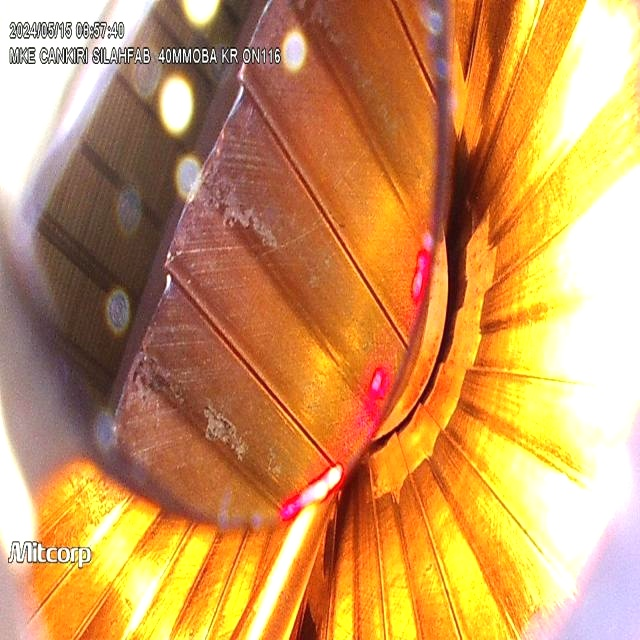hata_3.1: (188, 143, 304, 315), (303, 0, 410, 158)
hata_5.2: (195, 381, 253, 475)
